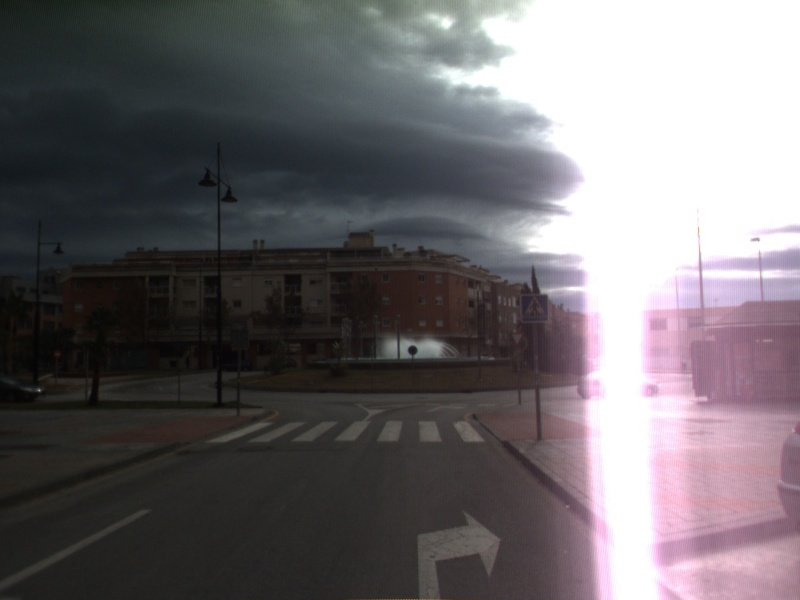RIGHT: (412, 507, 504, 600)
